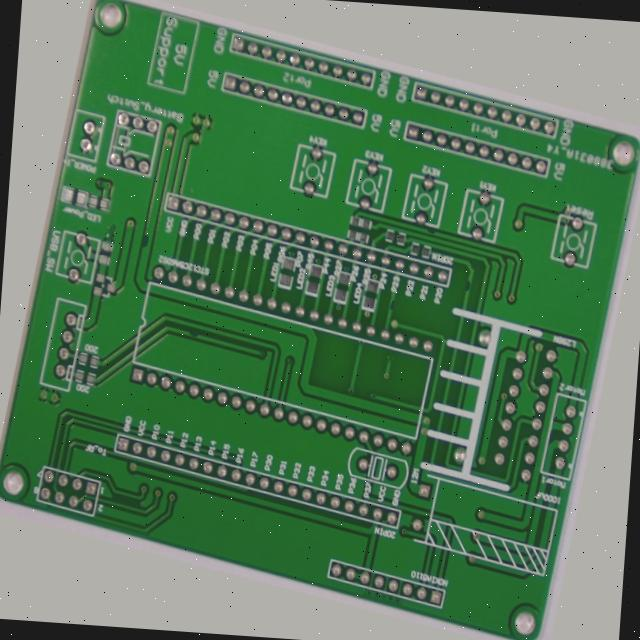mouse_bite: (106, 254, 125, 280), (388, 275, 406, 296), (469, 236, 486, 258), (419, 183, 439, 198), (173, 358, 191, 373)
